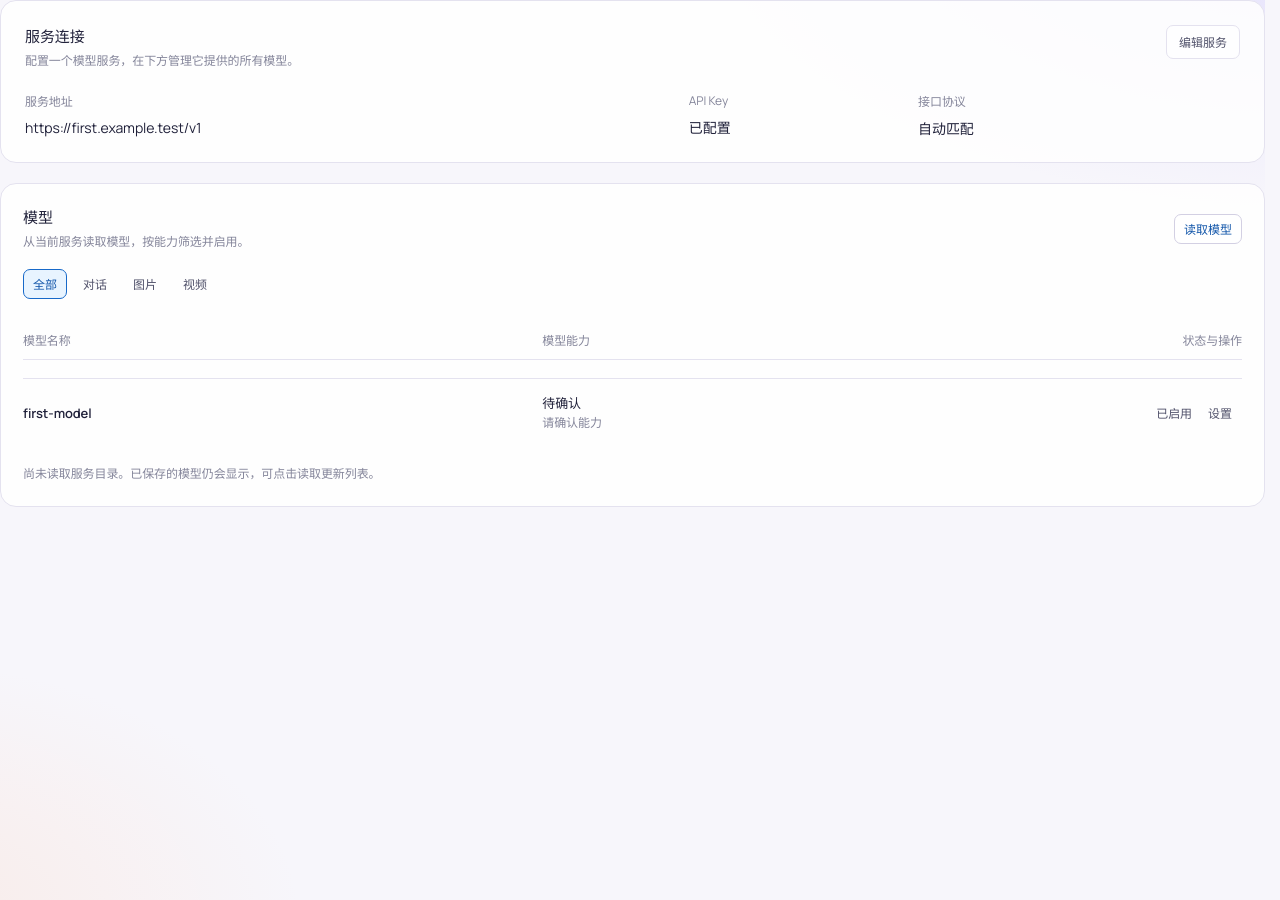
Test case: ModelConnectionManager › reads models with only four category filters and no search or manual entry
Click the button "对话" at (95, 284), box [73, 269, 117, 299]
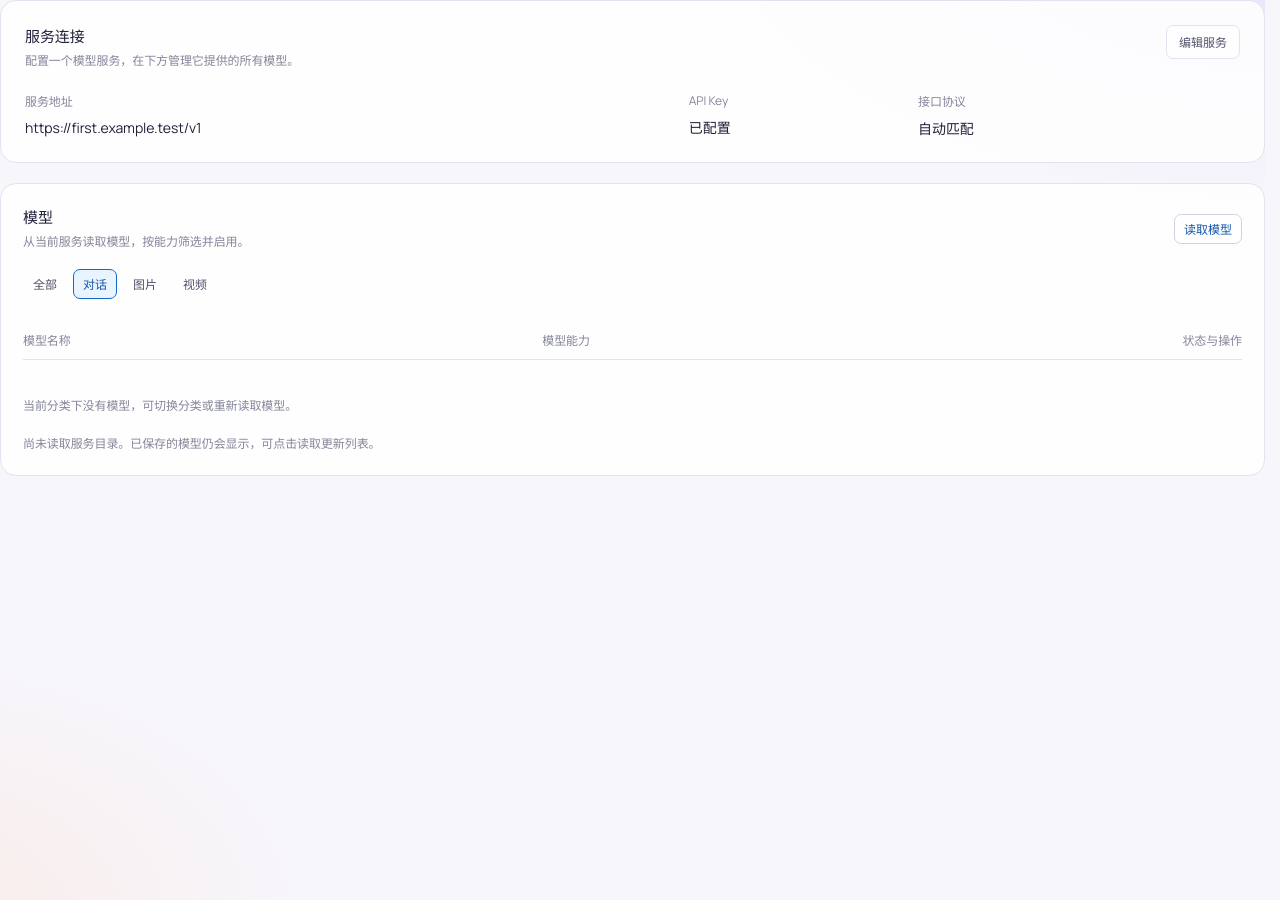
Result: the text "当前分类下没有模型，可切换分类或重新读取模型。" is shown at [23, 397, 297, 414]
Click the button with aria-label "读取模型列表" at (1208, 229), box [1174, 214, 1242, 244]
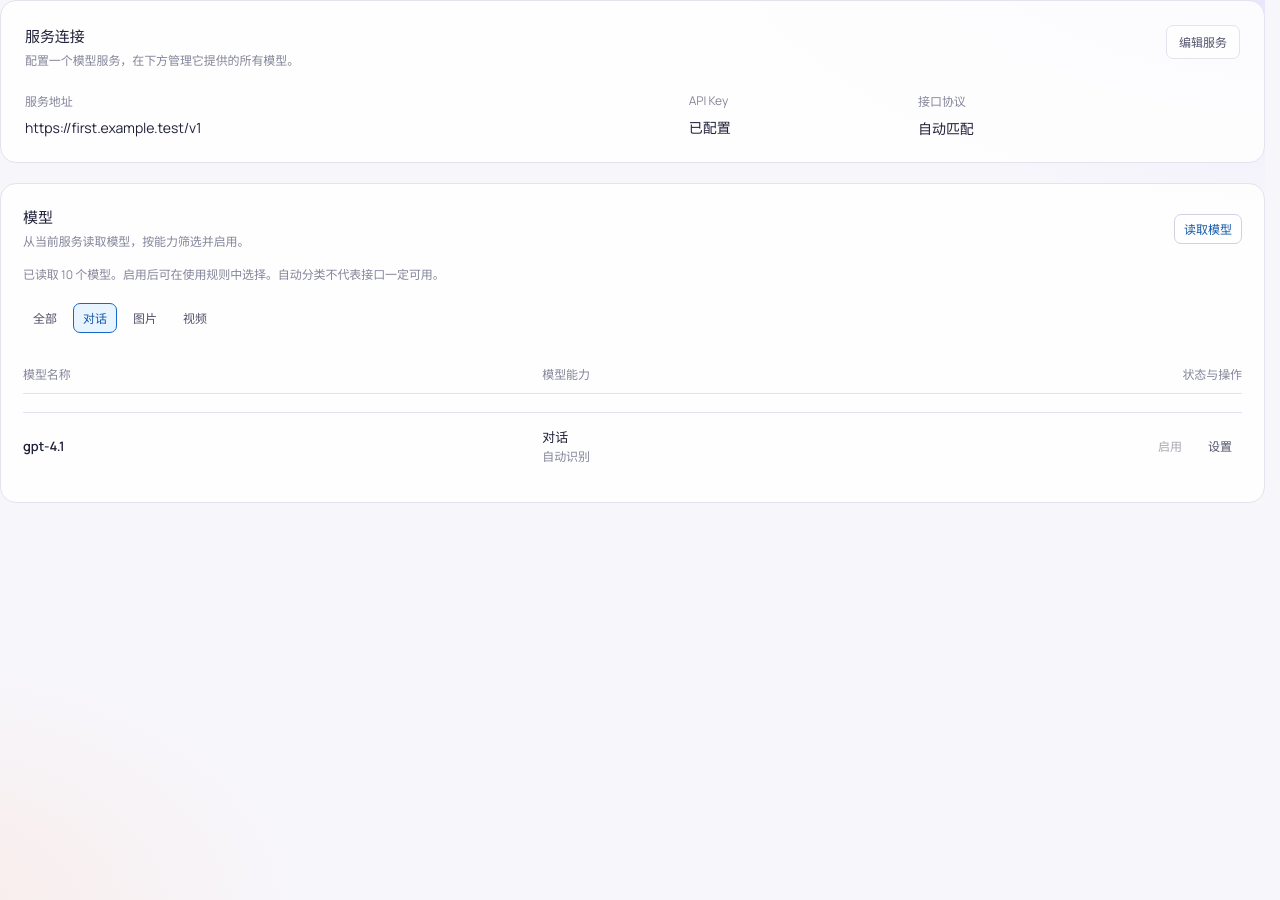
Result: the button with aria-label "gpt-4.1 设置" is shown at [1198, 431, 1242, 461]
Click the button "图片" at (145, 318), box [123, 303, 167, 333]
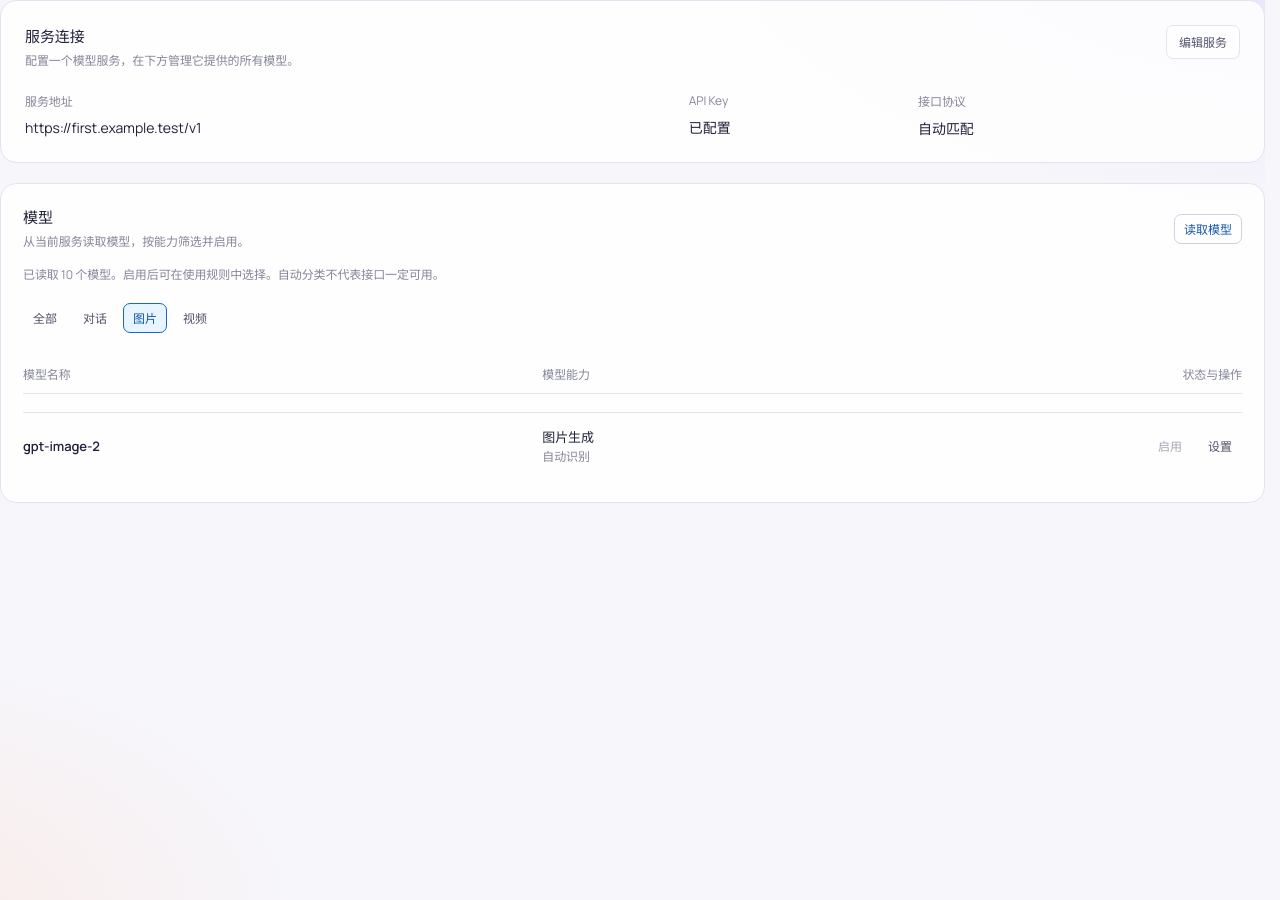
Expected: the button with aria-label "gpt-image-2 设置" is shown, [1198, 431, 1242, 461]
Click the button "视频" at (195, 318), box [173, 303, 217, 333]
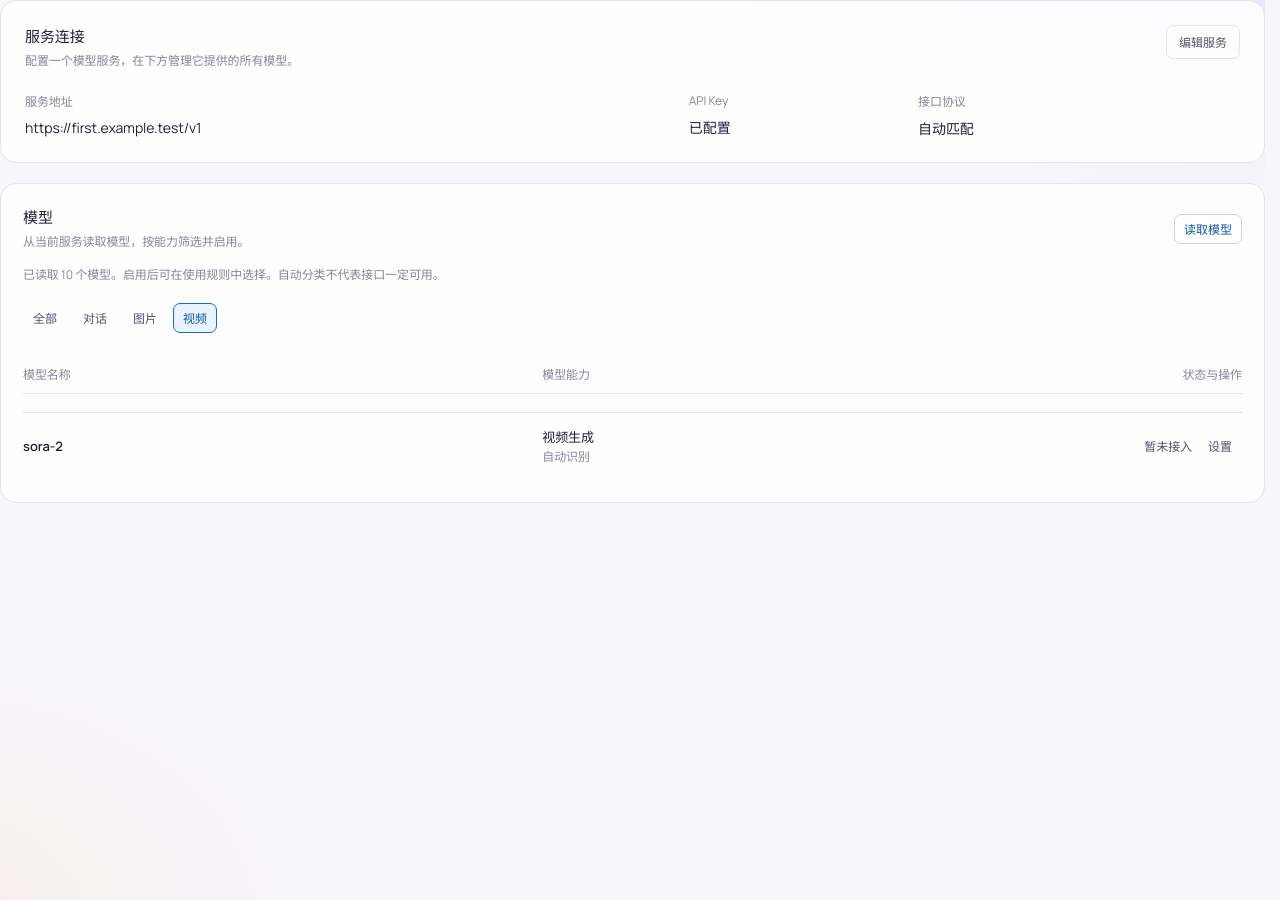
Expected: the button with aria-label "sora-2 设置" is shown, [1198, 431, 1242, 461]
Click the button "全部" at (45, 318), box [23, 303, 67, 333]
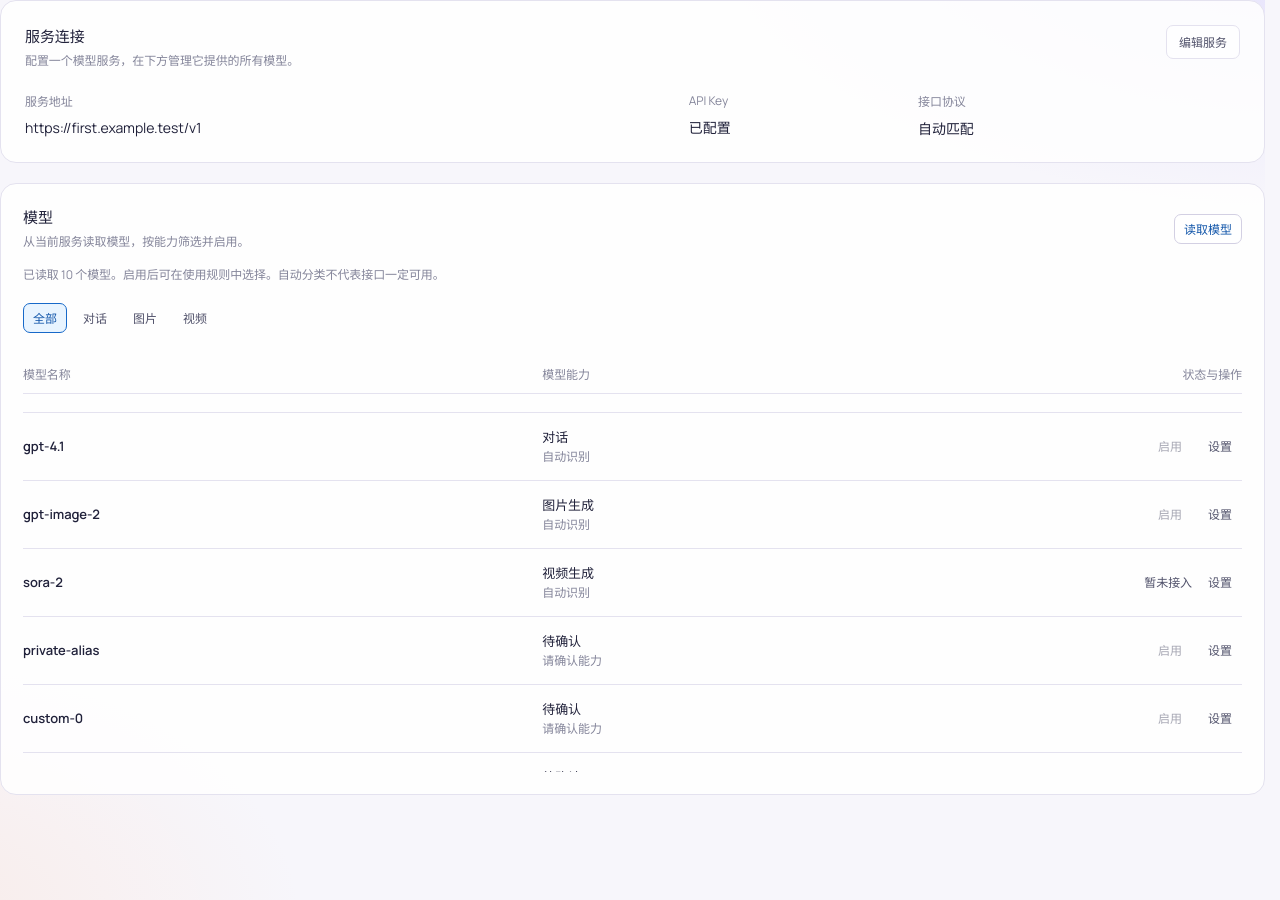
Result: the button with aria-label "private-alias 设置" is shown at [1198, 635, 1242, 665]
